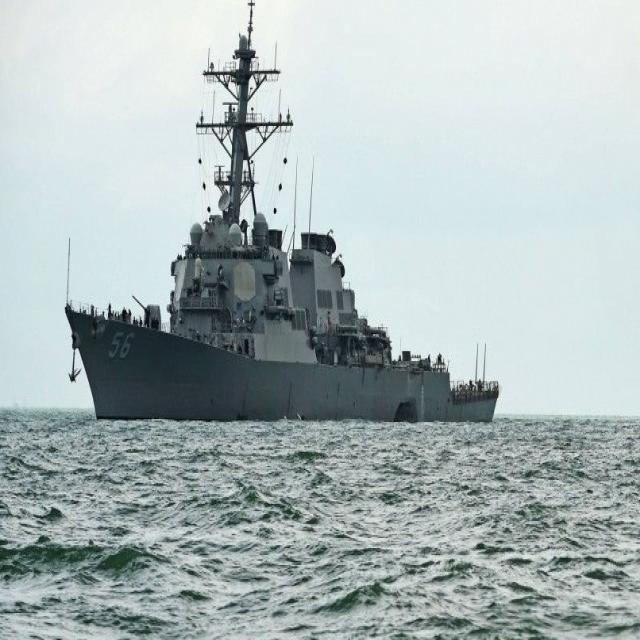navalvessels: (53, 22, 504, 422)
